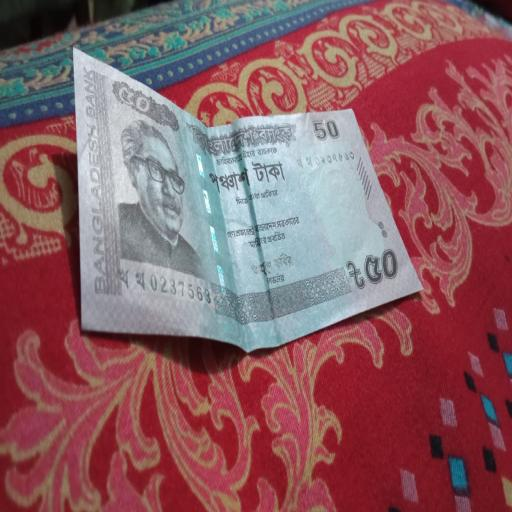50taka: (71, 44, 423, 351)
